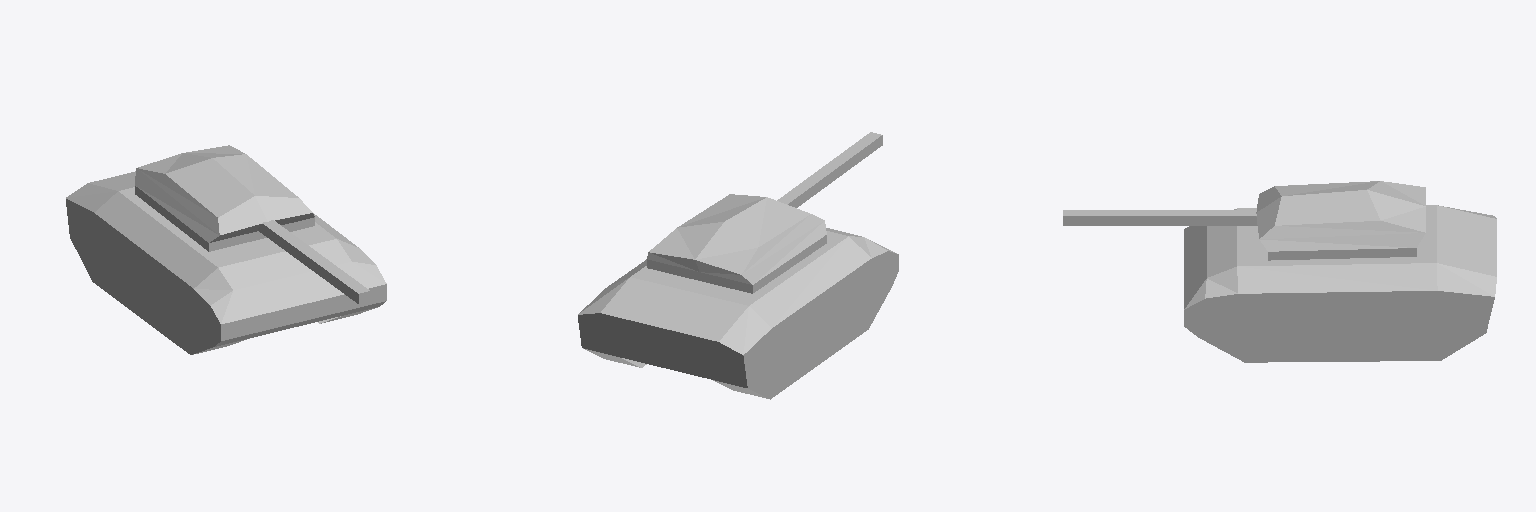
File: chaffee_tank.obj
The picture shows the model from 3 angles: view 1: azimuth 30°, elevation 25°; view 2: azimuth 150°, elevation 25°; view 3: azimuth 270°, elevation 25°; orthographic projection.
Visible parts, largest first — view 1: Chaffee_Cube; view 2: Chaffee_Cube; view 3: Chaffee_Cube.
Boxes of the visible parts, <box> form: Chaffee_Cube: <box>66,145,386,354</box>; Chaffee_Cube: <box>578,132,898,399</box>; Chaffee_Cube: <box>1063,181,1496,362</box>.
Bounding box in the file's own units: 14.85 × 11.32 × 33.66.